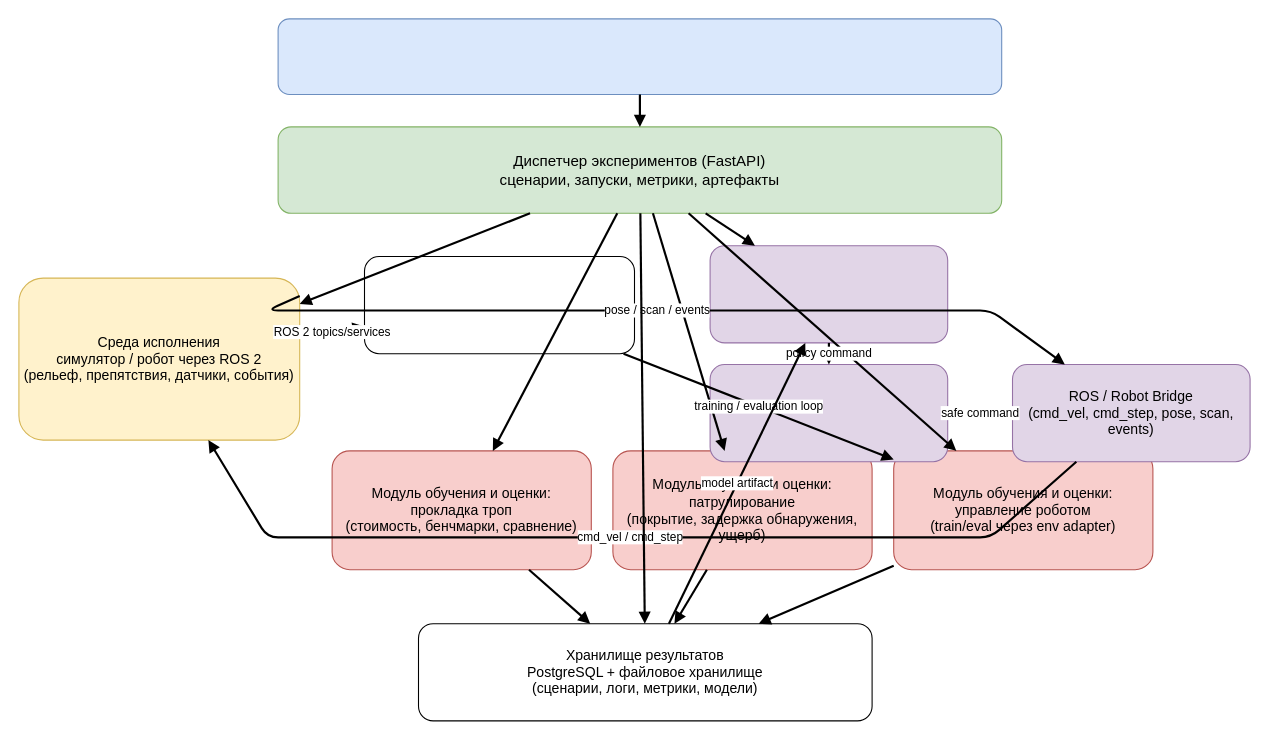
This 1269x740 diagram has some shape labels left out. The shapes that lost their labels are listed below. From the top down, each one's centre as x and y in pixels, then its label:
At (x=639, y=56): "Веб-интерфейс (визуализация, запуск экспериментов, реплеи)".
At (x=498, y=304): "Environment Adapter (Gym reset/step, sync control tick, observation/reward)".
At (x=828, y=294): "Policy Runner (загрузка модели, inference, runtime loop)".
At (x=828, y=412): "Safety Supervisor (clamp, stop zone, collision guard, e-stop)".
